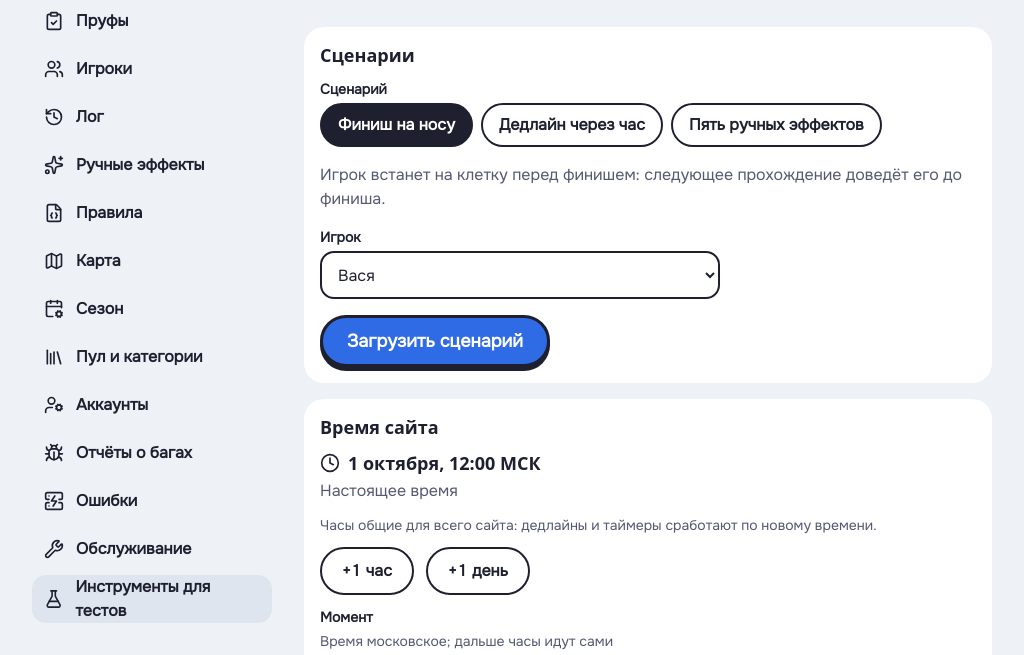
The test tools › move the clock an hour on and show the shift
Click the button with test id "clock-plus-hour". click: {"x": 367, "y": 571}
box: 320,547 -> 414,595
(page scrolled)
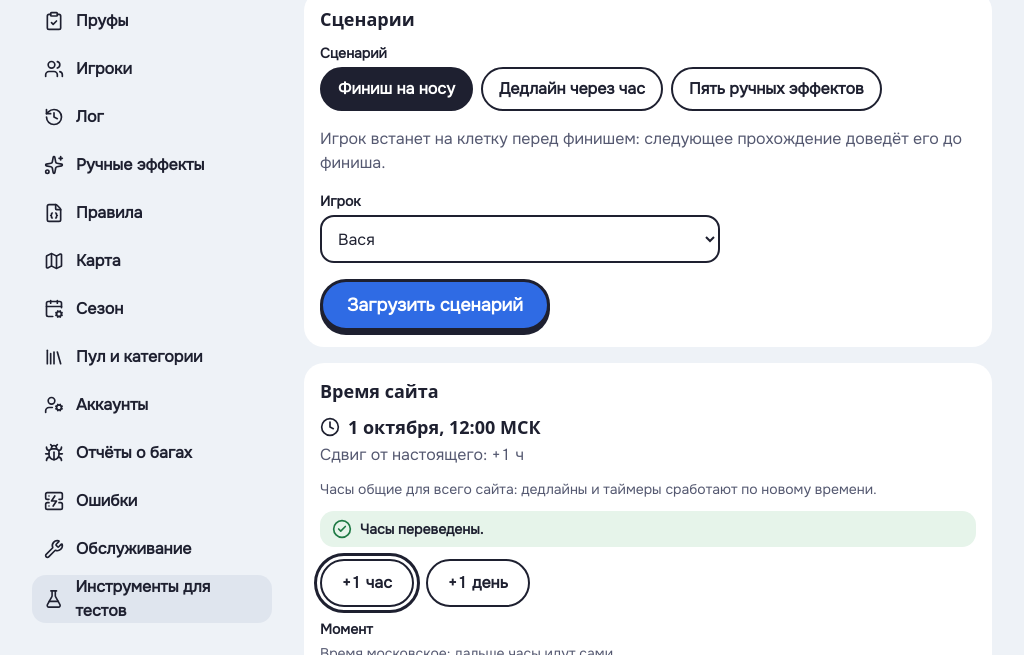
Check: the text "Часы переведены." is shown, box 360,519 -> 484,539
